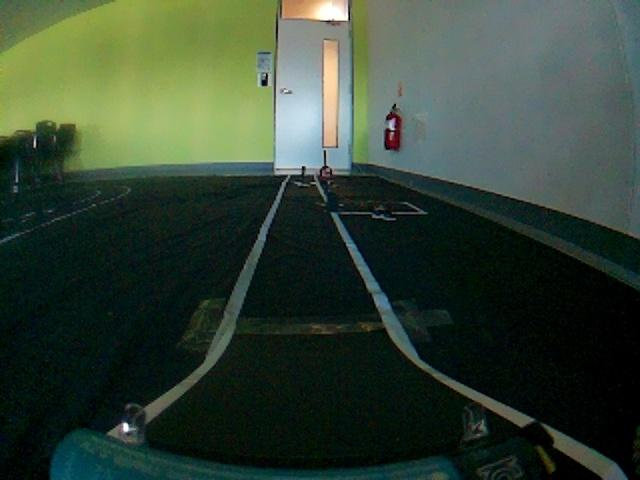go: (217, 210, 409, 330)
hill_down: (22, 336, 620, 480)
